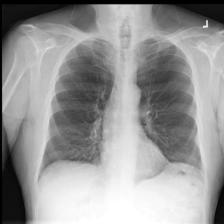normal: (30, 25, 209, 197)
